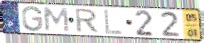2: (134, 9, 157, 38), (160, 11, 182, 38)
G: (21, 5, 44, 33)
L: (103, 8, 124, 36)
M: (43, 6, 70, 33)
R: (75, 8, 101, 34)
